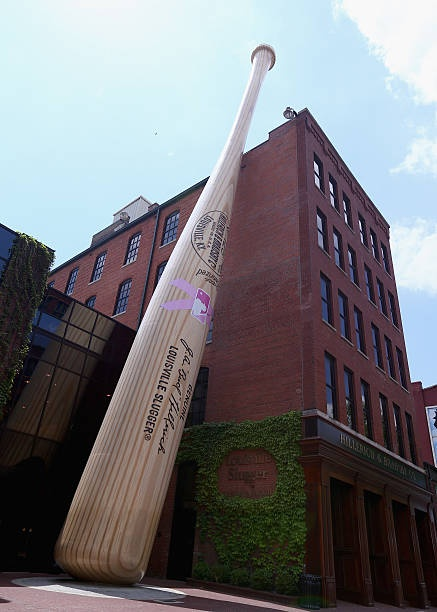bita: (60, 36, 273, 588)
